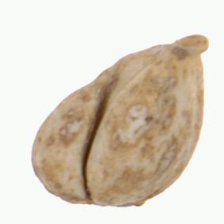L1: (166, 34, 209, 66), (60, 196, 147, 208)
L2: (30, 34, 209, 208)
